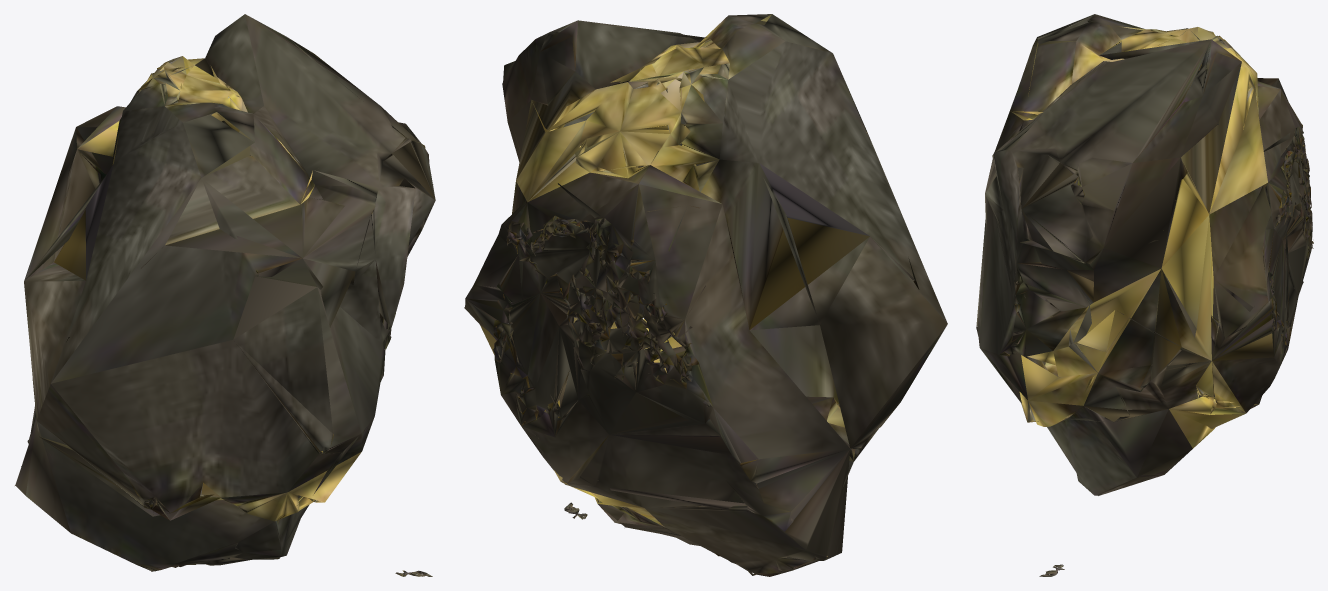
The model's file is ouro_primeiro_rei_zahar.glb.
3 renders of one model, left to right at view 1: azimuth 30°, elevation 25°; view 2: azimuth 150°, elevation 25°; view 3: azimuth 270°, elevation 25°, orthographic. The views are drawn at different scales.
Parts seen in each view (by area): view 1: geometry_0; view 2: geometry_0; view 3: geometry_0.
Boxes of the visible parts, box(x1,y1,x2,y2) form: geometry_0: box(15, 14, 435, 576); geometry_0: box(464, 14, 947, 576); geometry_0: box(976, 14, 1313, 576).
Size of the model in its own units: 0.7761 by 1 by 0.6201.
1 material, 1 textured.
